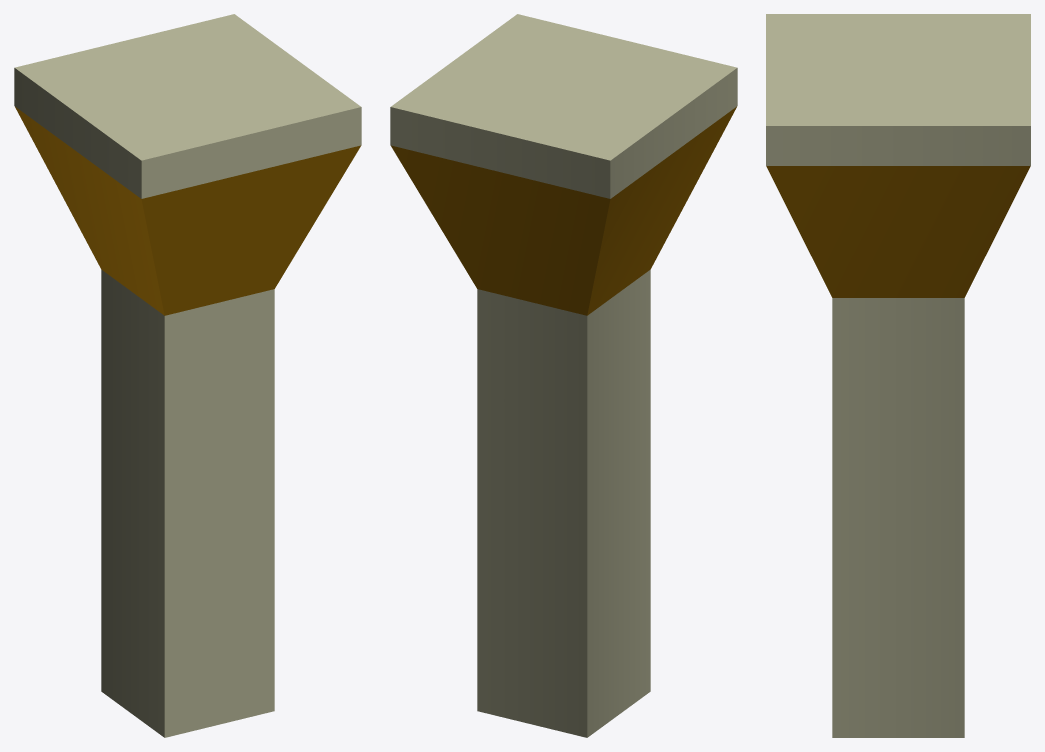
File: building-14.glb
3 views of the same model, side by side, from view 1: azimuth 30°, elevation 25°; view 2: azimuth 150°, elevation 25°; view 3: azimuth 270°, elevation 25° (orthographic). The views are drawn at different scales.
Visible parts, largest first — view 1: mesh0; view 2: mesh0; view 3: mesh0.
Part boxes in pixels (<box>): mesh0: <box>14,14,361,737</box>; mesh0: <box>390,14,737,737</box>; mesh0: <box>766,14,1030,737</box>.
Bounding box in the file's own units: 0.6 × 1.6 × 0.6.
